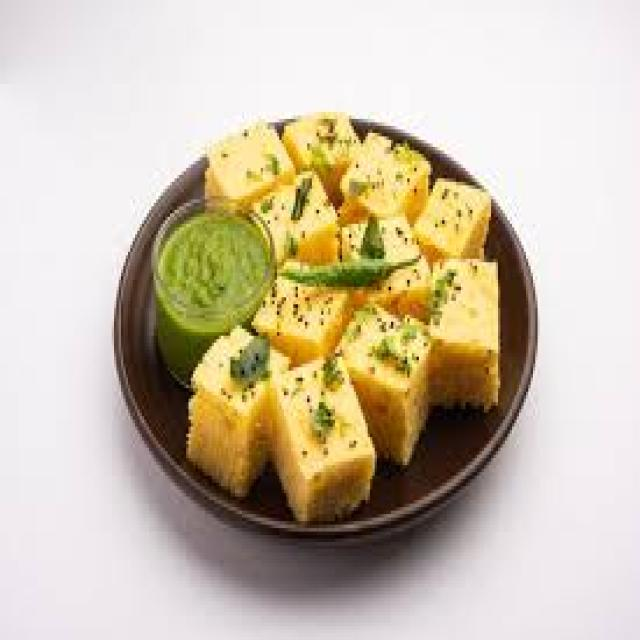DHOKLA: (186, 318, 288, 487), (269, 360, 367, 509), (341, 305, 430, 458), (426, 263, 501, 403), (258, 269, 351, 361), (204, 126, 297, 205), (417, 172, 496, 260), (342, 135, 423, 217), (286, 111, 362, 192), (263, 182, 329, 275), (344, 219, 430, 289)
